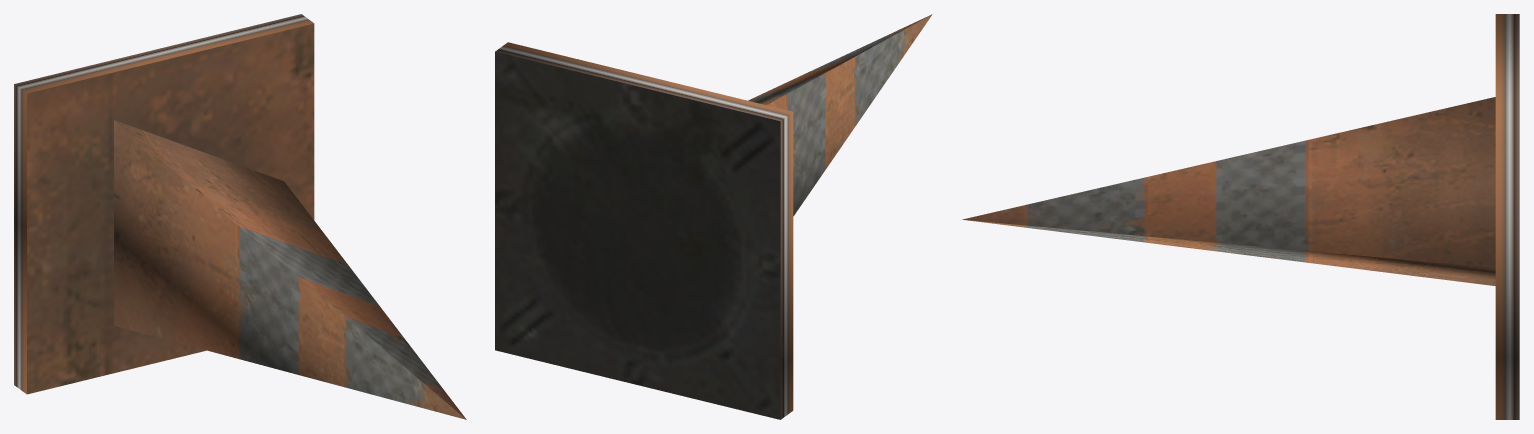
File: p_us_parkingcone_LOD3.obj
The picture shows the model from 3 angles, left to right: view 1: azimuth 30°, elevation 25°; view 2: azimuth 150°, elevation 25°; view 3: azimuth 270°, elevation 25°; orthographic projection. The views are drawn at different scales.
Parts seen in each view (by area): view 1: mtl_p_us_parkingcone; view 2: mtl_p_us_parkingcone; view 3: mtl_p_us_parkingcone.
Boxes of the visible parts, left/top/right/bottom form: mtl_p_us_parkingcone: left=14, top=14, right=466, bottom=419; mtl_p_us_parkingcone: left=495, top=14, right=932, bottom=419; mtl_p_us_parkingcone: left=962, top=14, right=1519, bottom=419.
Bounding box in the file's own units: 38.4 × 38.4 × 70.15.
